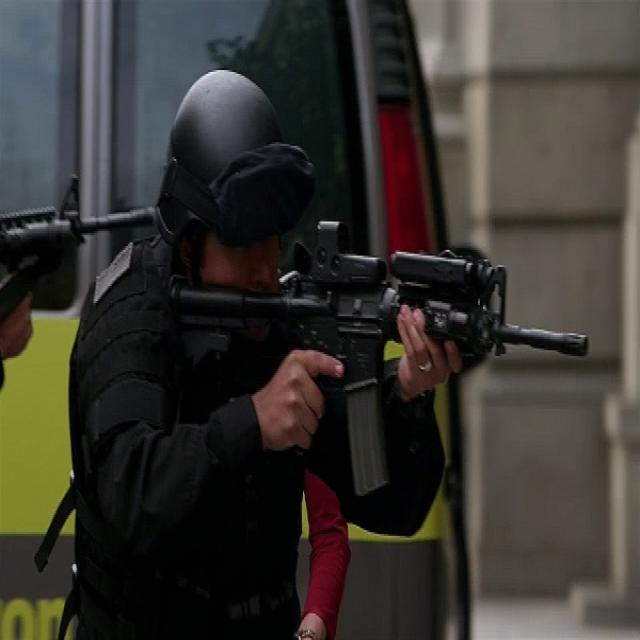rifle: (166, 213, 593, 515)
